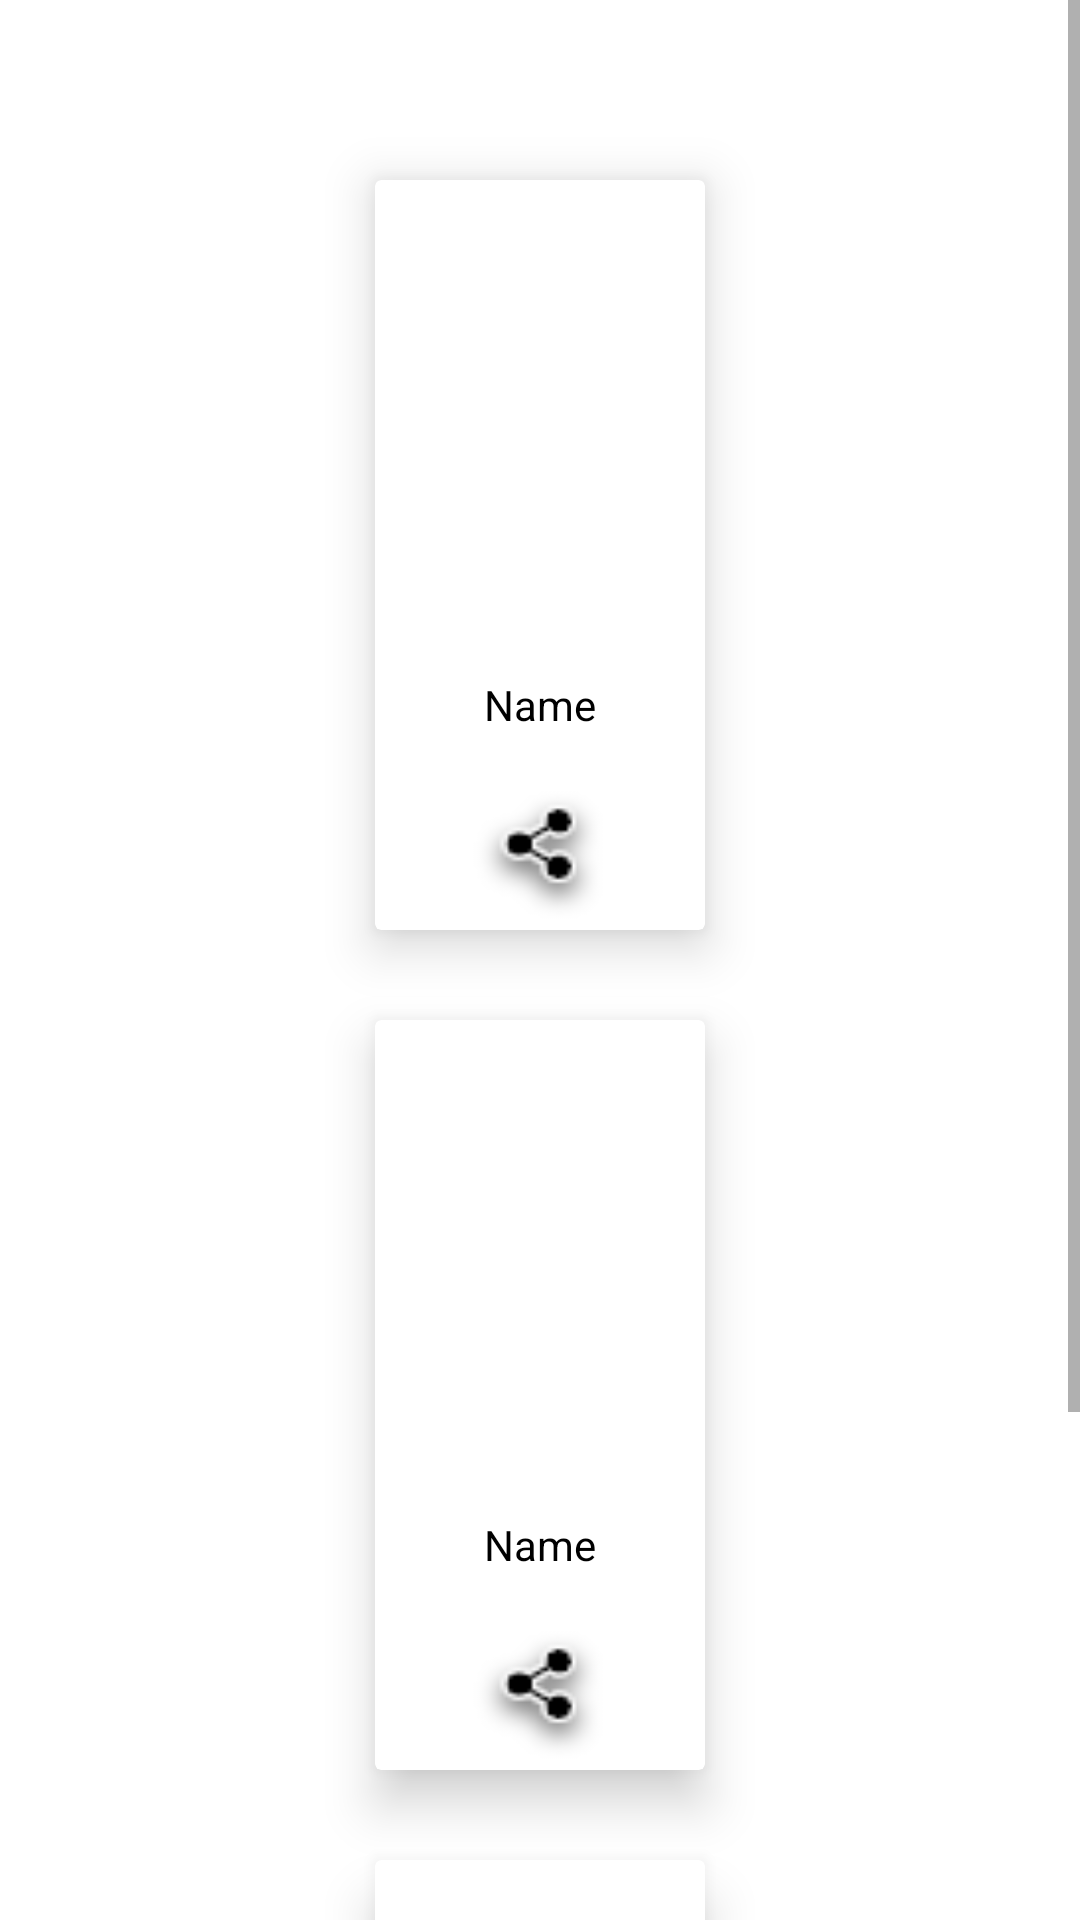

Screen size 1080px x 1920px. Icon name, then its center in pixels as point (x, y):
share: point (539, 855), point (539, 1695)
